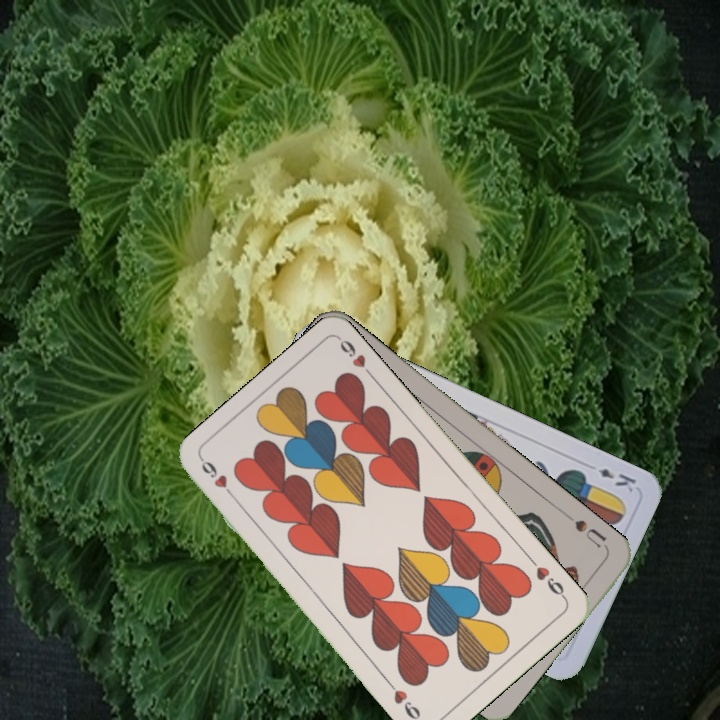EK: (594, 464, 639, 495)
H9: (197, 455, 240, 505), (526, 554, 569, 603)
SU: (562, 509, 611, 552)
